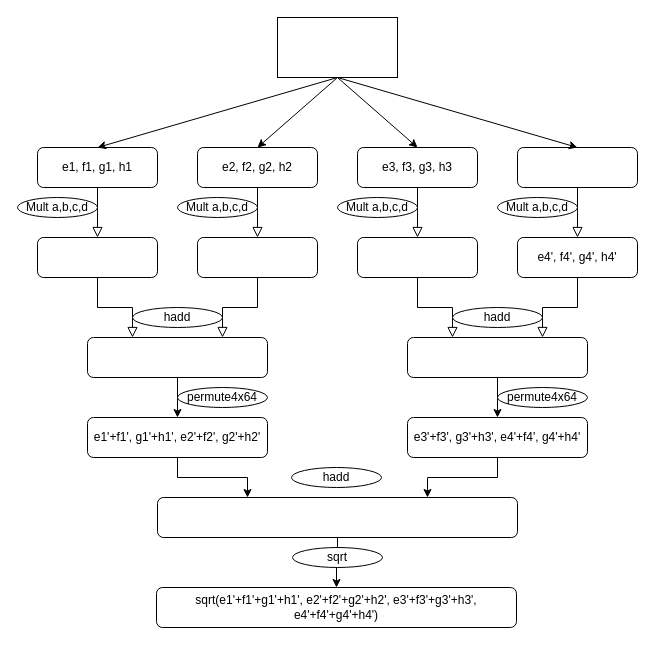
Image size: 655x645. Some labels were removed from this diagram. The shapes that lost their labels are listed below. From the top down, each one's centre as x and y in pixels, then its label:
At (337,47): "16 valeurs de U".
At (577,167): "e4, f4, g4, h4".
At (97,257): "e1', f1', g1', h1'".
At (257,257): "e2', f2', g2', h2'".
At (417,257): "e3', f3', g3', h3'".
At (177,357): "e1'+f1', e2'+f2', g1'+h1', g2'+h2'".
At (497,357): "e3'+f3', e4'+f4', g3'+h3', g4'+h4'".
At (337,517): "e1'+f1'+g1'+h1', e2'+f2'+g2'+h2', e3'+f3'+g3'+h3', e4'+f4'+g4'+h4'".
